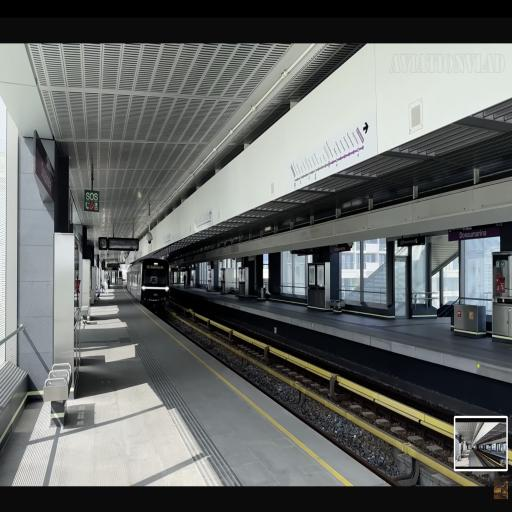X-Wagen: (127, 254, 172, 314)
